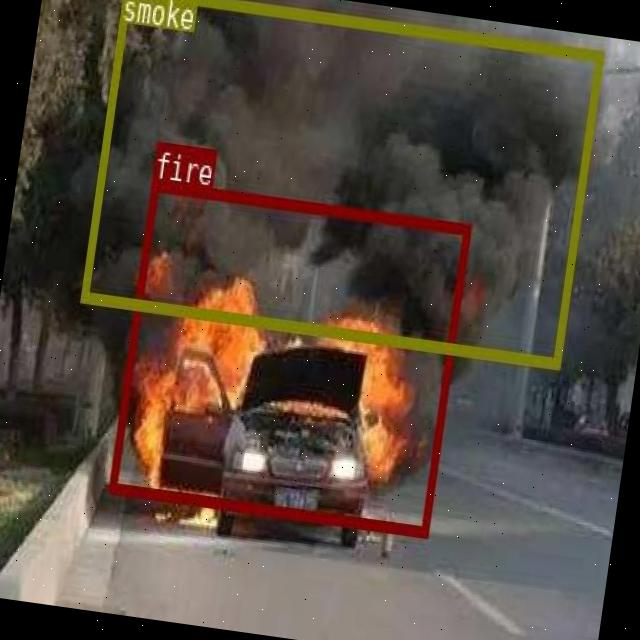fire: (108, 179, 471, 536)
smoke: (80, 0, 603, 366)
